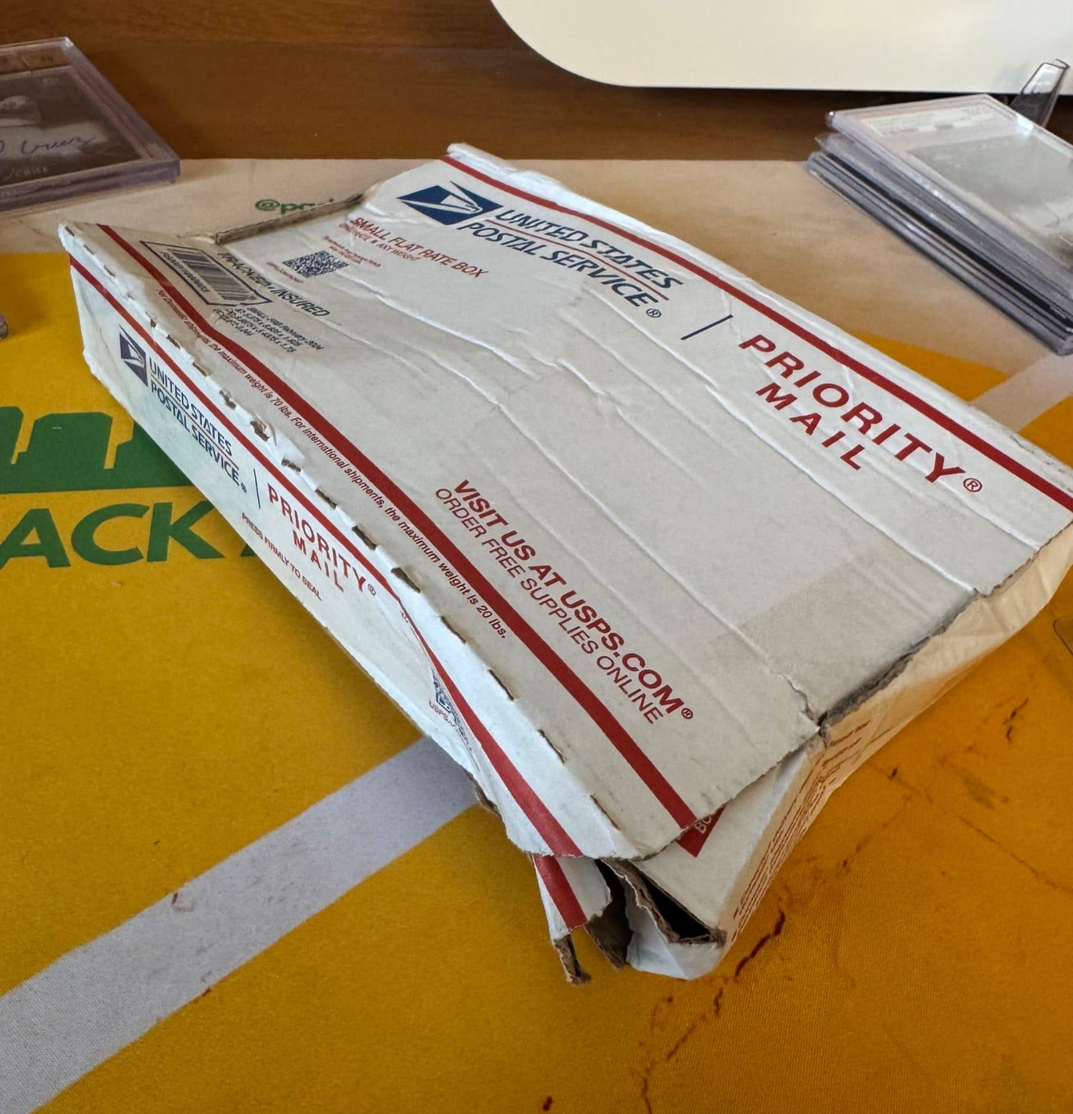damaged package: (483, 746, 831, 996)
undamaged: (40, 120, 1072, 1043)
